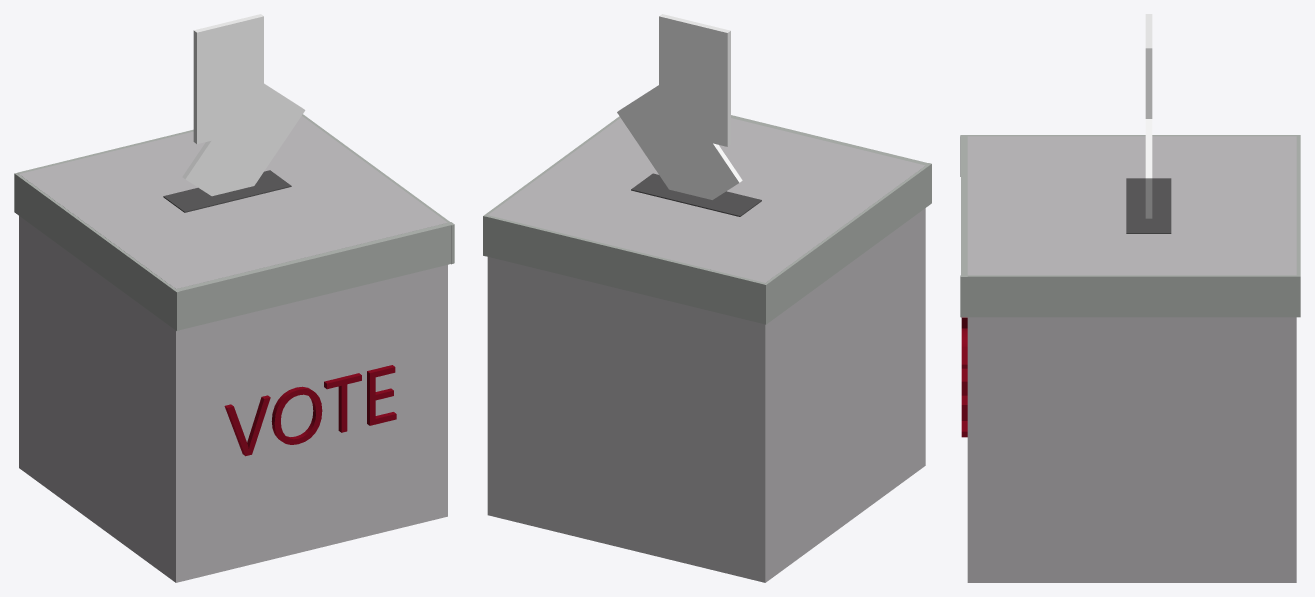
The model's file is Vote.fbx.
3 views of the same model, side by side, from view 1: azimuth 30°, elevation 25°; view 2: azimuth 150°, elevation 25°; view 3: azimuth 270°, elevation 25° (orthographic). The views are drawn at different scales.
Visible parts, largest first — view 1: root (×7), node_id149; view 2: root (×7); view 3: root (×8), node_id149.
Part boxes in pixels (x1,y1,x2,y2): root (×7): (14, 14, 454, 582); node_id149: (224, 365, 396, 456); root (×7): (486, 14, 931, 582); root (×8): (960, 14, 1300, 582); node_id149: (961, 317, 967, 437).
Size of the model in its own units: 0.3086 by 0.4903 by 0.3125.
Materials: 7 (7 with a texture image).
